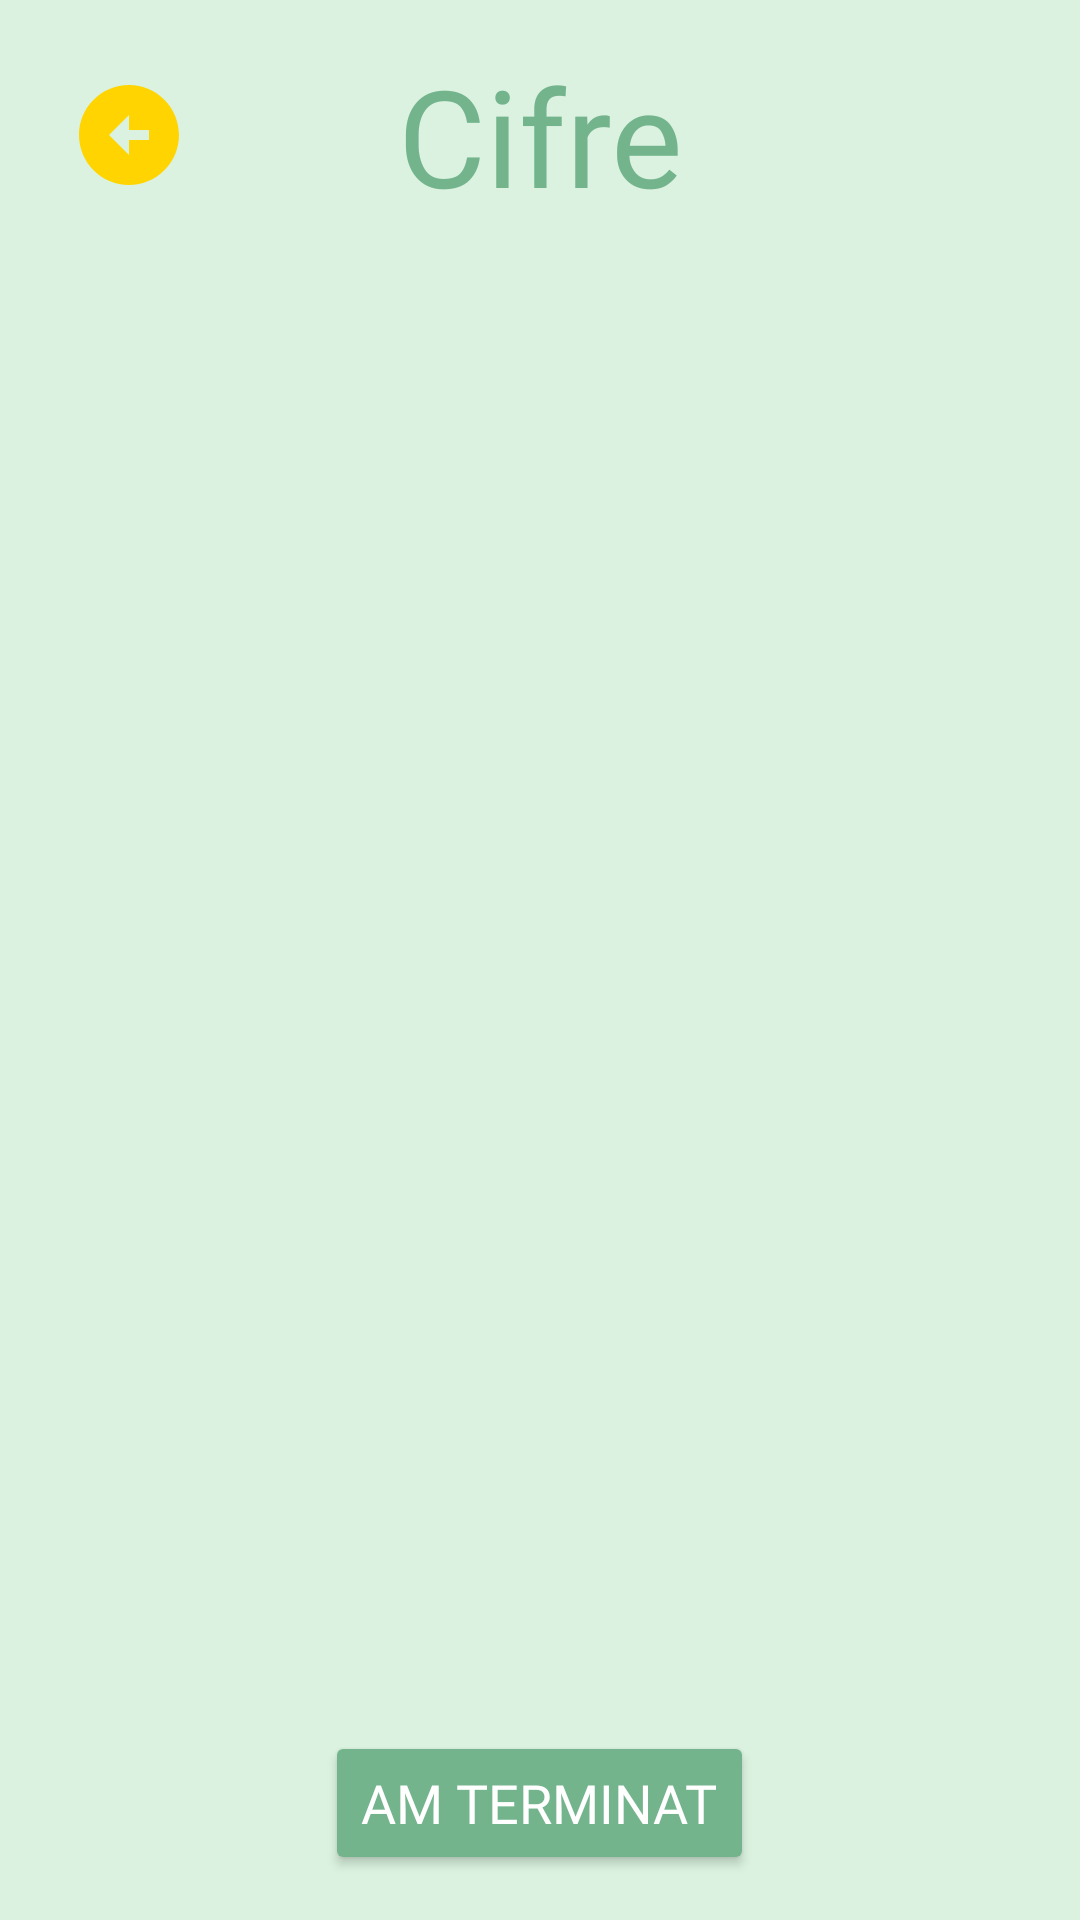

Locate icon controls on the screen. Image size 1080px x 1920px, boxes as bbox(x1, y1, x2, y2).
Înapoi: bbox(79, 85, 179, 185)
